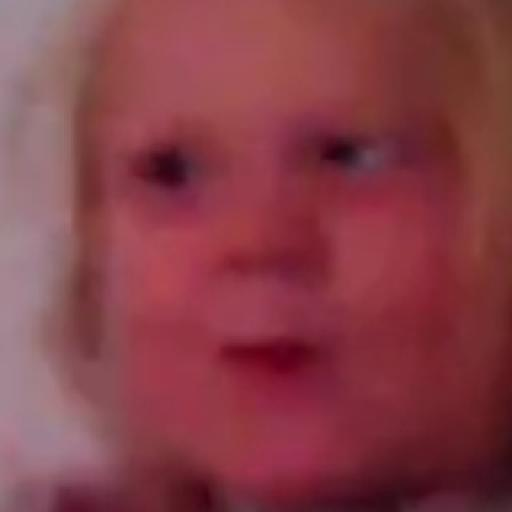Autism: (49, 5, 510, 470)
